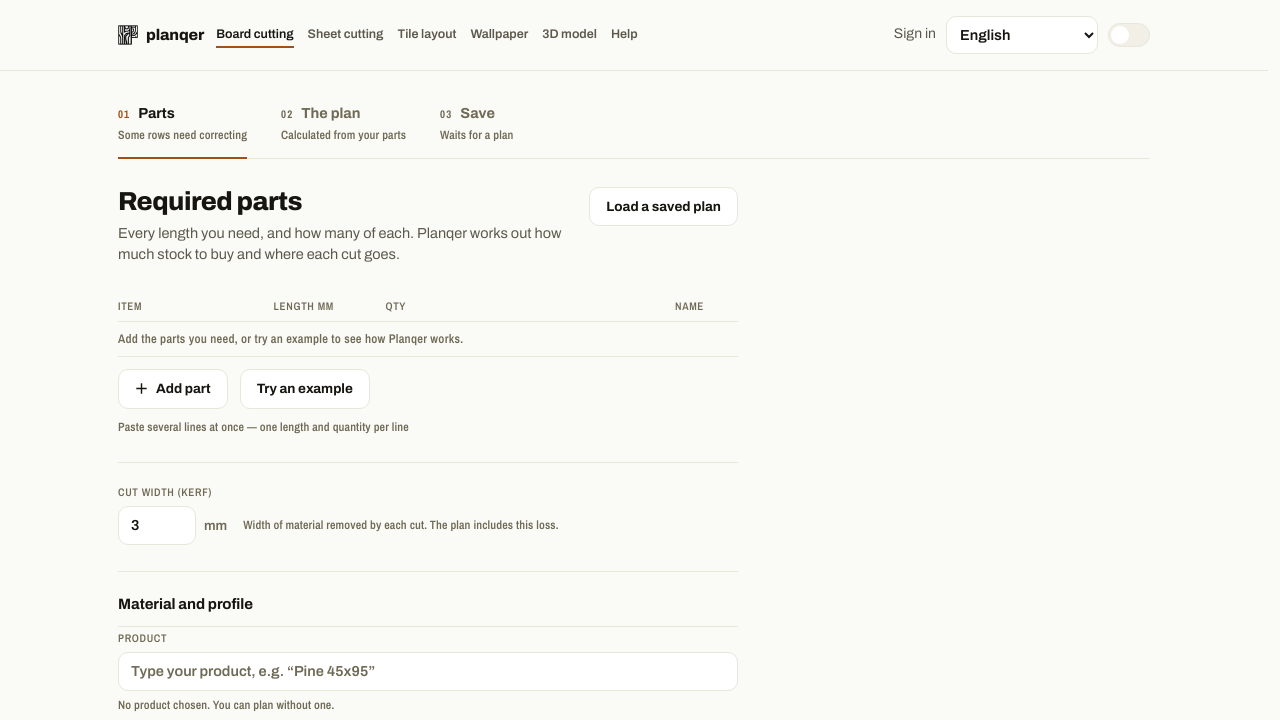
CuttingOptimizer › states the actual maximum board length in the limits
Click the button "Try an example" at (305, 389), box [240, 369, 370, 409]
(page scrolled)
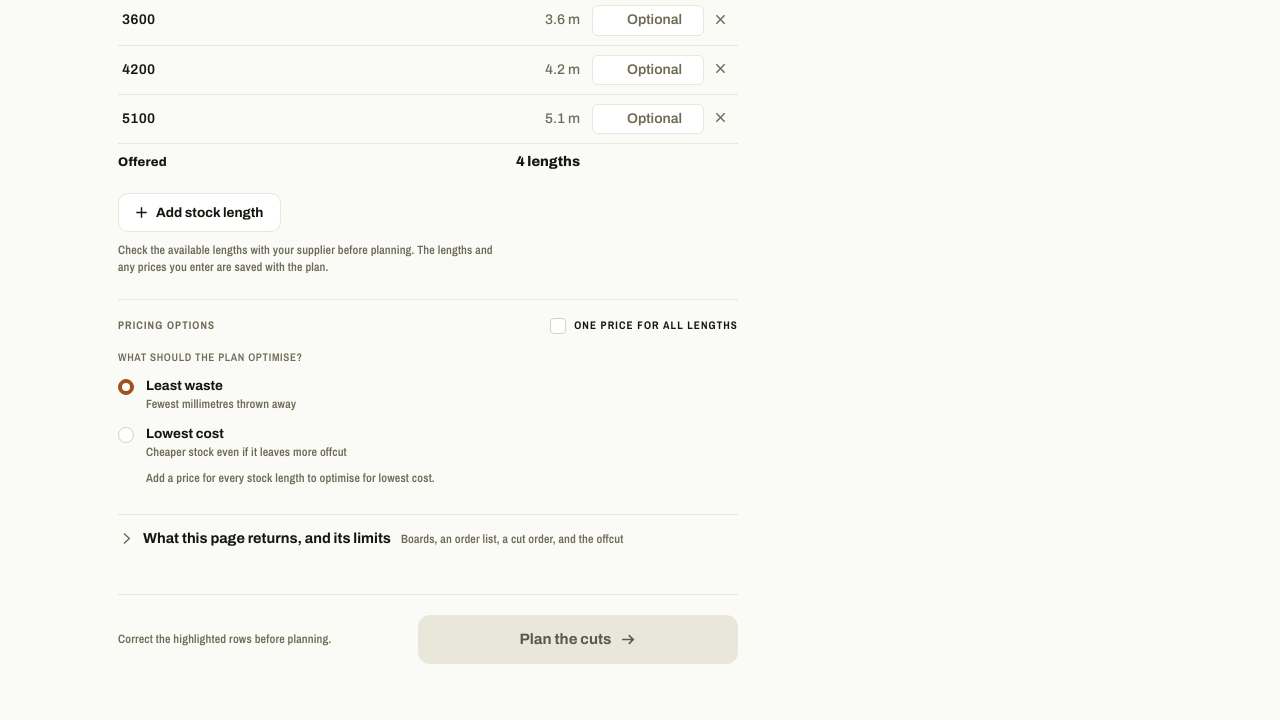
Click the button "What this page returns, and its limits" at (428, 538), box [118, 515, 738, 562]
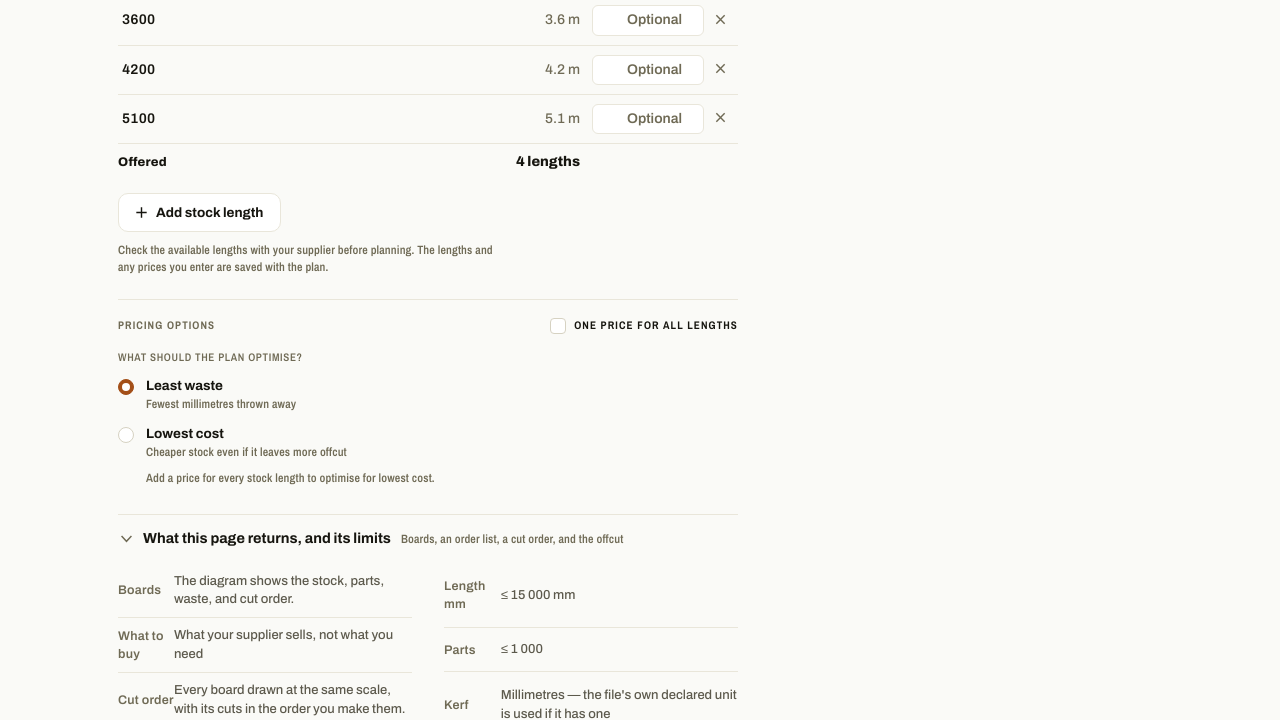
Expected: the text "≤ 15 000 mm" is shown, [501, 564, 738, 628]
